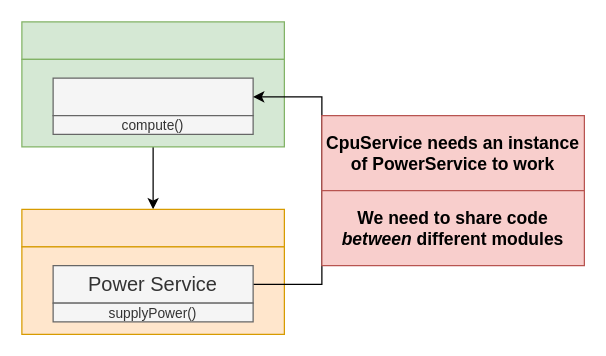
The diagram is 606 pixels wide and 356 high, and some of its shapes have lost their labels. The shapes that lost their labels are listed below. From the top down, each one's box as (x1, y1, x2, y2) in pixels, then its label:
(21, 21, 284, 59): CPU Module
(52, 77, 253, 116): CPU Service
(21, 208, 284, 247): Power Module
